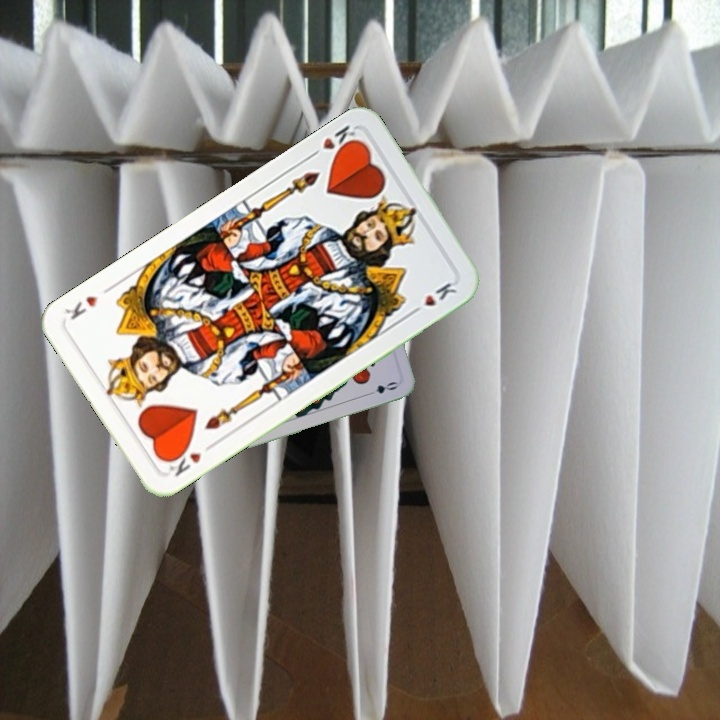HK: (304, 121, 363, 161), (161, 438, 217, 479)
